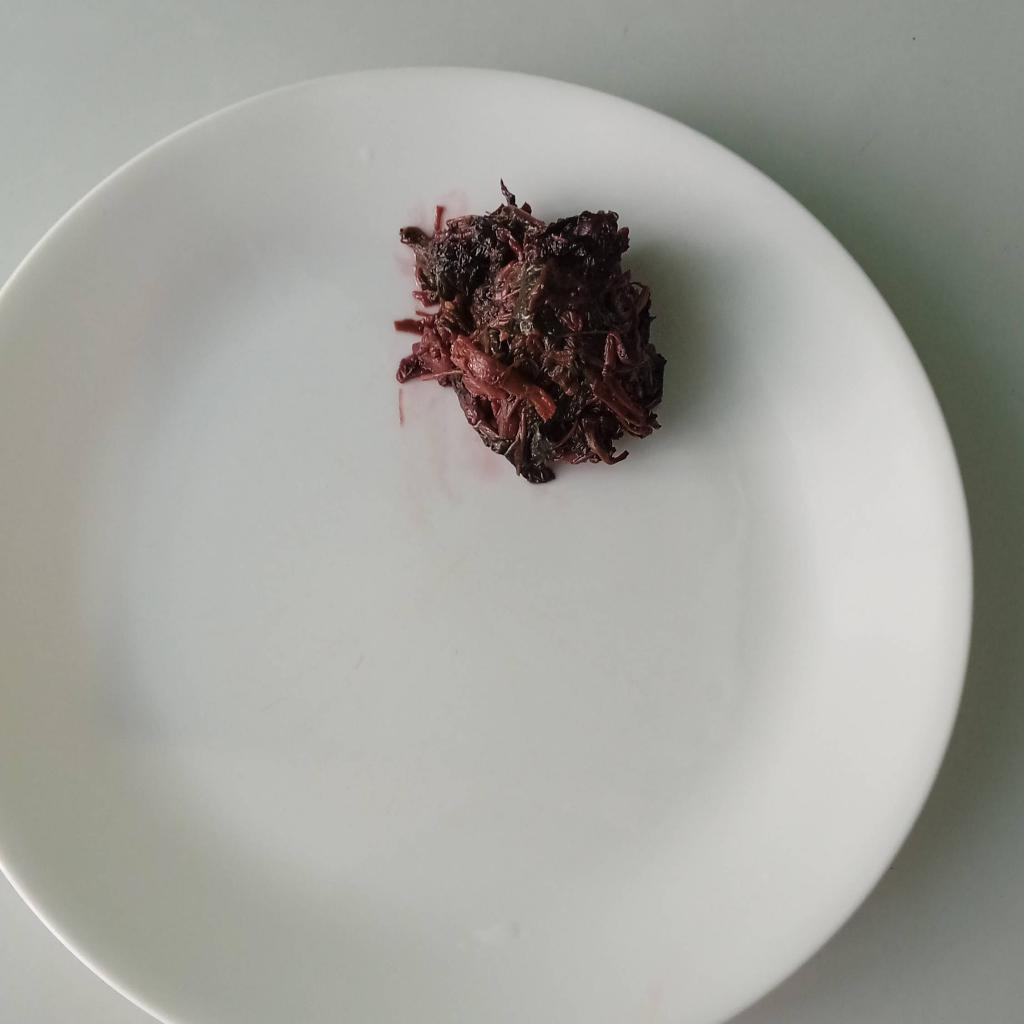lal-shak: (395, 180, 665, 483)
